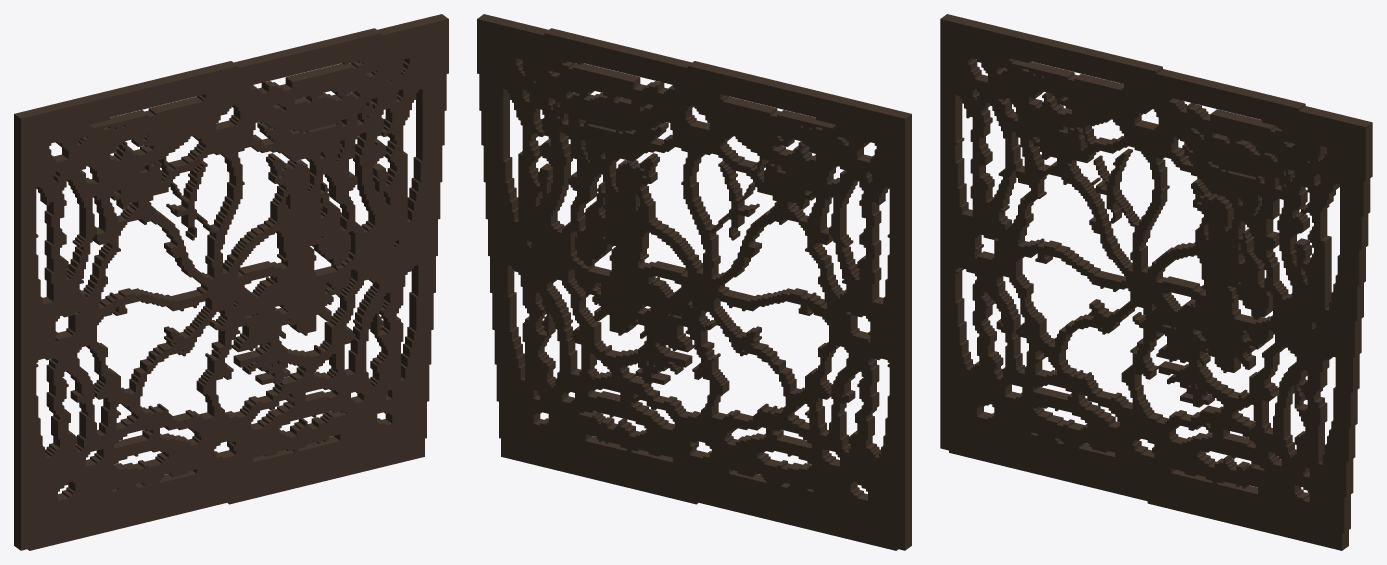
File: lattice_window.glb
The picture shows the model from 3 angles, left to right: view 1: azimuth 30°, elevation 25°; view 2: azimuth 150°, elevation 25°; view 3: azimuth 330°, elevation 25°; orthographic projection.
Visible parts, largest first — view 1: Lattice_Silhouette; view 2: Lattice_Silhouette; view 3: Lattice_Silhouette.
Boxes of the visible parts, <box> form: Lattice_Silhouette: <box>14,14,448,550</box>; Lattice_Silhouette: <box>477,14,911,550</box>; Lattice_Silhouette: <box>940,14,1372,550</box>.
Size of the model in its own units: 1.5 by 1.46 by 0.0415.
